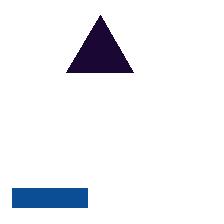rectangle: (12, 188, 87, 207)
triangle: (66, 15, 133, 72)
